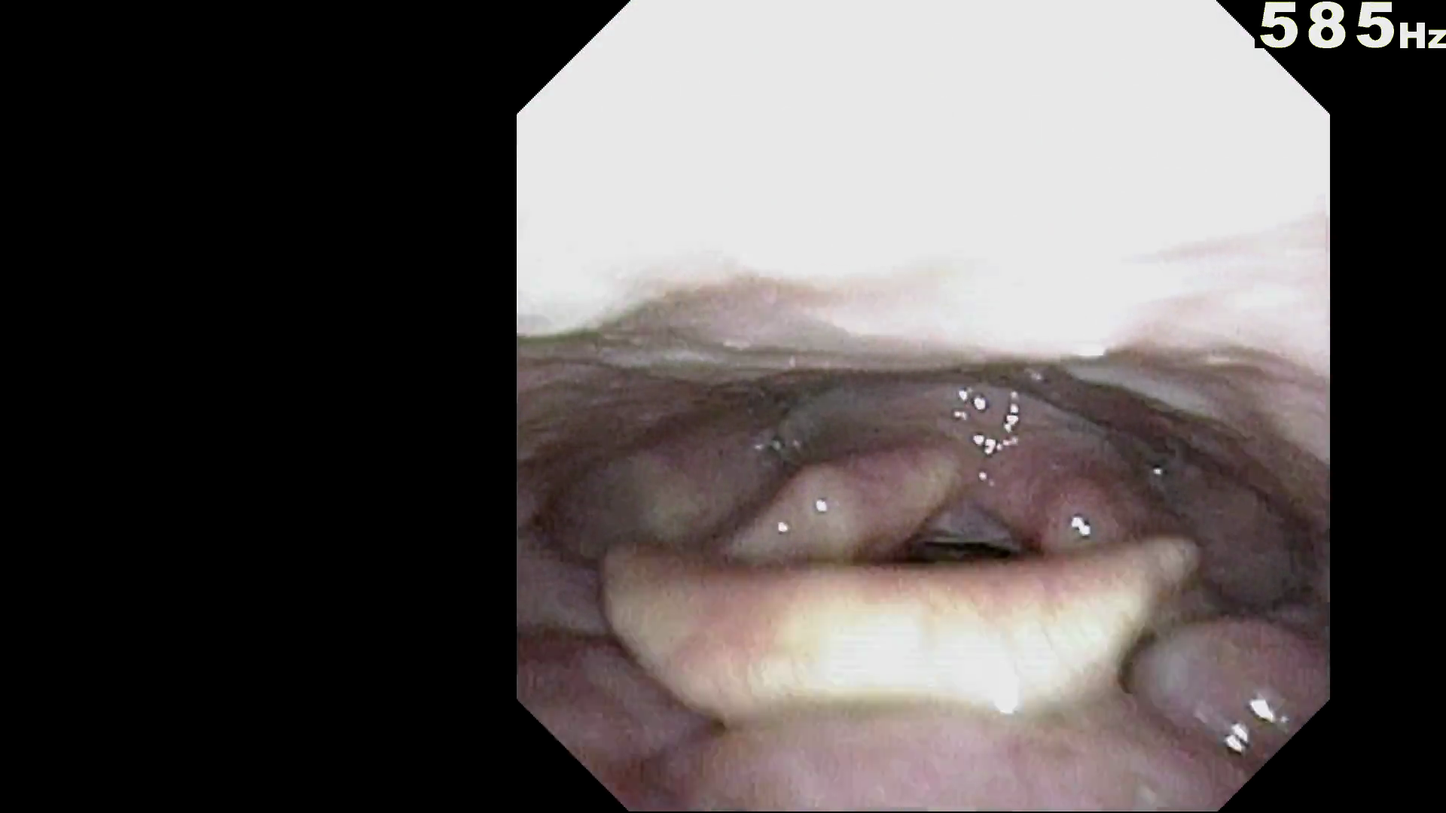epiglottis: (661, 626, 1203, 766)
trachea: (905, 545, 1034, 671)
